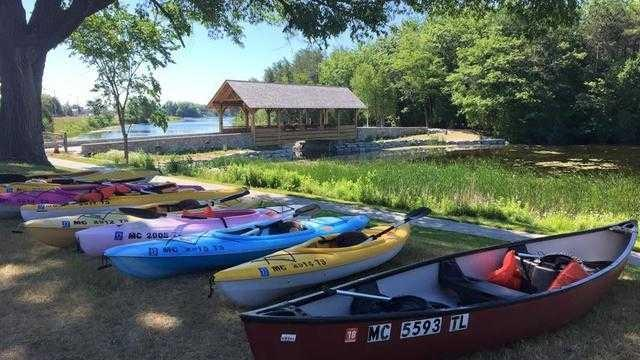kayak: (239, 218, 637, 355), (211, 212, 426, 310), (103, 211, 367, 281), (75, 199, 300, 256), (16, 186, 250, 231), (18, 206, 130, 229), (0, 188, 74, 218)
